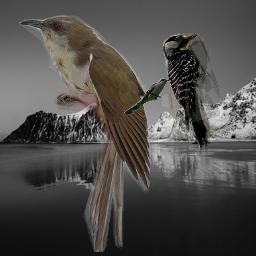Cuckoo: (19, 14, 150, 252), (124, 78, 171, 114)
Woodpecker: (162, 33, 220, 152)
